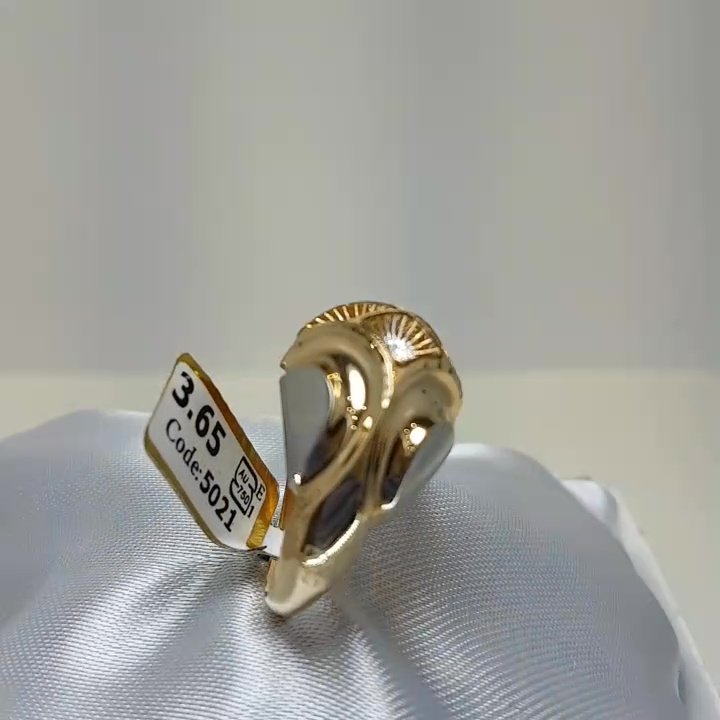Ring 2: (225, 271, 515, 629)
